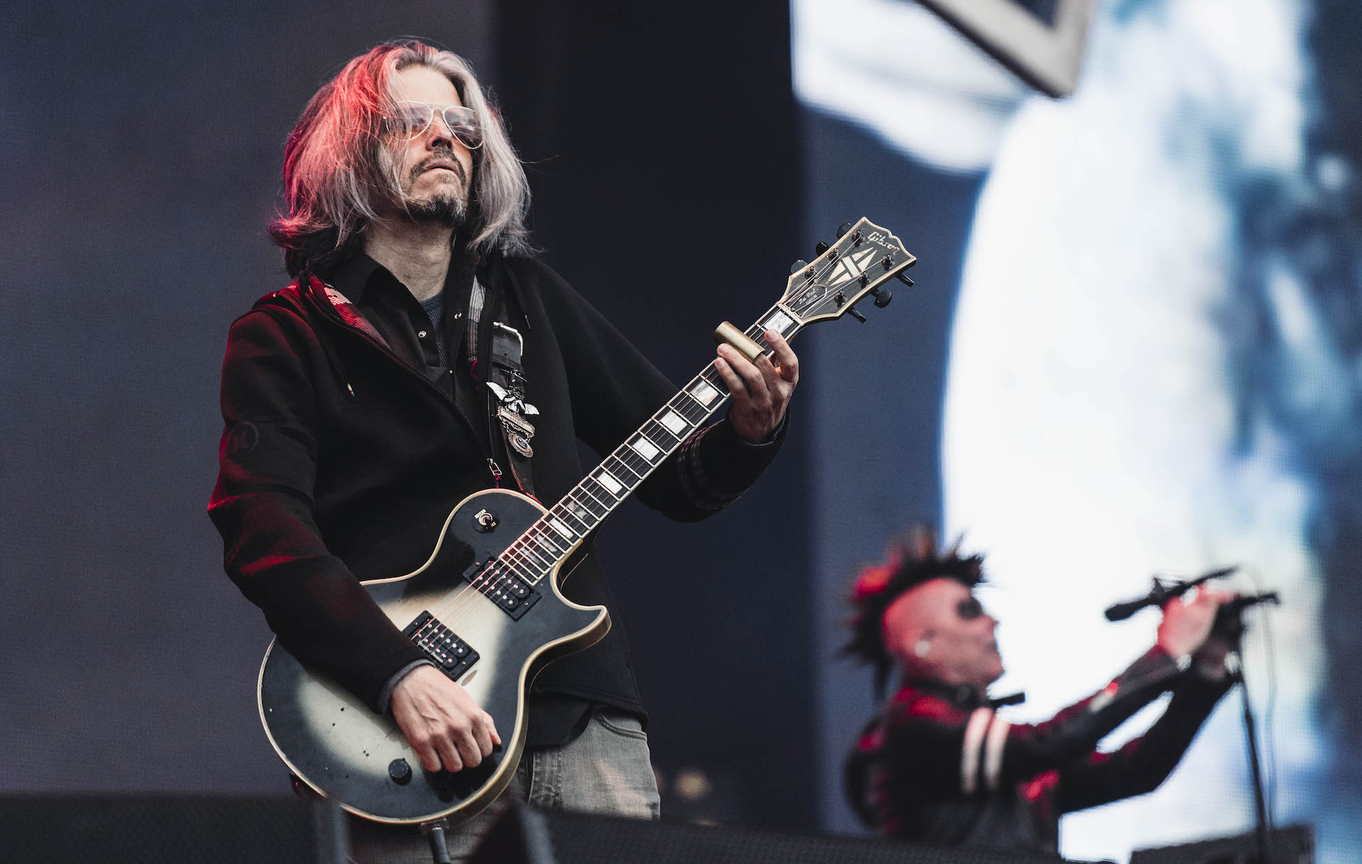acousticguitar: (256, 230, 903, 830)
